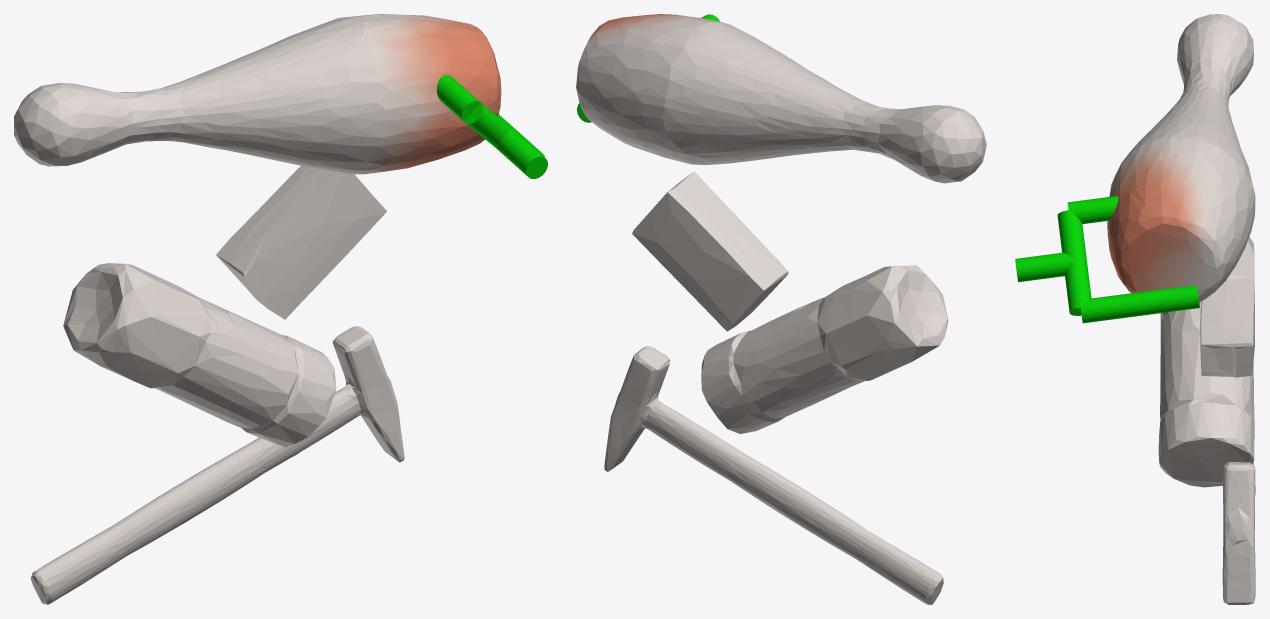
File: round_000_trial_003.obj
3 renders of one model, left to right at view 1: azimuth 30°, elevation 25°; view 2: azimuth 150°, elevation 25°; view 3: azimuth 270°, elevation 25°, orthographic. The views are drawn at different scales.
Visible parts, largest first — view 1: geometry_0, geometry_1; view 2: geometry_0; view 3: geometry_0, geometry_1.
Boxes of the visible parts, x1=… form: geometry_0: x1=14, y1=14, x2=501, y2=604; geometry_1: x1=436, y1=75, x2=547, y2=178; geometry_0: x1=576, y1=14, x2=986, y2=604; geometry_0: x1=1107, y1=14, x2=1255, y2=604; geometry_1: x1=1015, y1=196, x2=1199, y2=323.
Size of the model in its own units: 0.2047 by 0.2314 by 0.1018.
